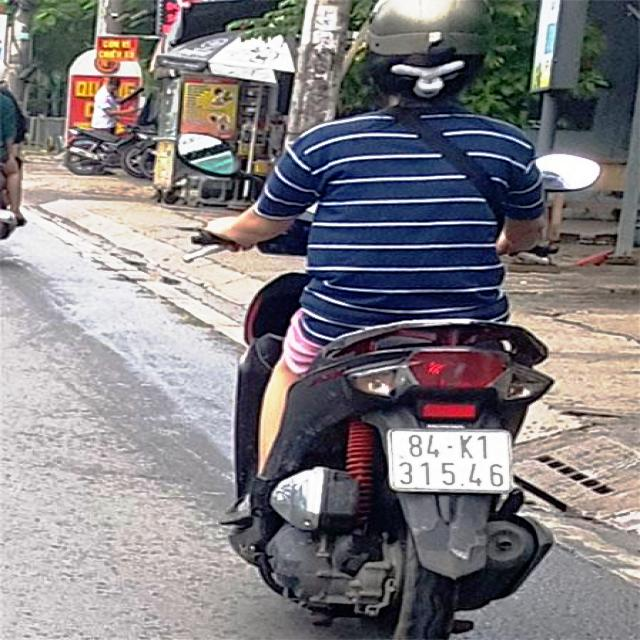license_plate: (392, 428, 517, 495)
